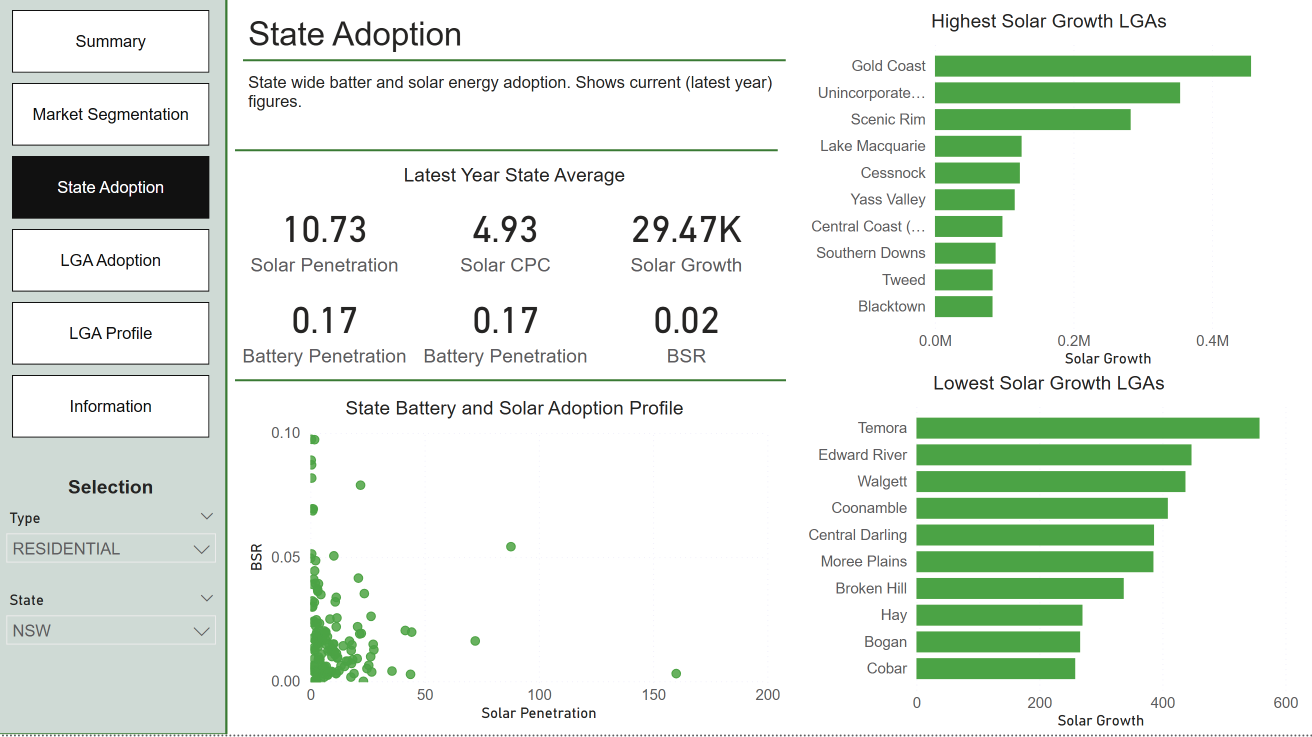

Layout of this report page (visuals, bound fields, positions):
{"tool":"powerbi","page":{"name":"State Adoption","canvas":[1280,720],"ordinal":2},"visuals":[{"type":"barChart","title":"Highest Solar Growth LGAs","fields":{"Category":["Dim_Region.Region"],"Y":["Avg(Metrics.GrowthSolar)"]},"box":[776,16,496,352],"z":0},{"type":"textbox","box":[240,16,352,48],"z":1000},{"type":"scatterChart","title":"State Battery and Solar Adoption Profile","fields":{"X":["Metrics.Solar Penetration"],"Y":["Metrics.BSR"]},"box":[240,392,528,320],"z":2000},{"type":"barChart","title":"Lowest Solar Growth LGAs","fields":{"Category":["Dim_Region.Region"],"Y":["Avg(Metrics.GrowthSolar)"]},"box":[776,368,496,352],"z":3000},{"type":"shape","box":[232,368,536,16],"z":4000},{"type":"shape","box":[240,56,528,16],"z":5000},{"type":"shape","box":[232,144,528,16],"z":6000},{"type":"shape","box":[0,0,224,720],"z":7000},{"type":"slicer","fields":{"Values":["Dim_Region.State"]},"box":[0,576,224,80],"z":8000},{"type":"slicer","fields":{"Values":["Metrics.Type"]},"box":[0,496,224,72],"z":9000},{"type":"pageNavigator","box":[16,16,192,416],"z":10000},{"type":"shape","box":[208,0,32,720],"z":11000},{"type":"textbox","box":[16,464,192,32],"z":12000},{"type":"card","fields":{"Values":["Avg(Metrics.PenSolar)"]},"box":[232,192.1,176,88],"z":13000},{"type":"card","fields":{"Values":["Avg(Metrics.Solar CPC)"]},"box":[408,192.1,176,88],"z":14000},{"type":"card","fields":{"Values":["Avg(Metrics.Solar Growth)"]},"box":[584,192.1,176,88],"z":15000},{"type":"card","fields":{"Values":["Avg(Metrics.Battery Penetration)"]},"box":[232,280.1,176,88],"z":16000},{"type":"card","fields":{"Values":["Avg(Metrics.Battery Penetration)"]},"box":[408,280.1,176,88],"z":17000},{"type":"card","fields":{"Values":["Avg(Metrics.BSR)"]},"box":[584,280.1,176,88],"z":18000},{"type":"textbox","box":[240,160,528,32],"z":19000},{"type":"textbox","box":[240,72,528,64],"z":20000}]}

Visuals, with their boxes in screenshot pixels (x1, y1, x2, y2), scaled from the page's 1280x720 canvas onto the 1312x737 screenshot:
"Highest Solar Growth LGAs" barChart: 795, 16, 1304, 377
textbox: 246, 16, 607, 66
"State Battery and Solar Adoption Profile" scatterChart: 246, 401, 787, 729
"Lowest Solar Growth LGAs" barChart: 795, 377, 1304, 736
shape: 238, 377, 787, 393
shape: 246, 57, 787, 74
shape: 238, 147, 779, 164
shape: 0, 0, 230, 736
slicer - Dim_Region.State: 0, 590, 230, 671
slicer - Metrics.Type: 0, 508, 230, 581
pageNavigator: 16, 16, 213, 442
shape: 213, 0, 246, 736
textbox: 16, 475, 213, 508
card - Avg(Metrics.PenSolar): 238, 197, 418, 287
card - Avg(Metrics.Solar CPC): 418, 197, 599, 287
card - Avg(Metrics.Solar Growth): 599, 197, 779, 287
card - Avg(Metrics.Battery Penetration): 238, 287, 418, 377
card - Avg(Metrics.Battery Penetration): 418, 287, 599, 377
card - Avg(Metrics.BSR): 599, 287, 779, 377
textbox: 246, 164, 787, 197
textbox: 246, 74, 787, 139
